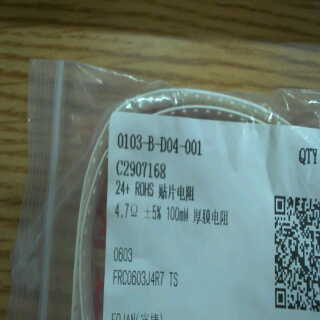4.7R: (112, 198, 138, 221)
